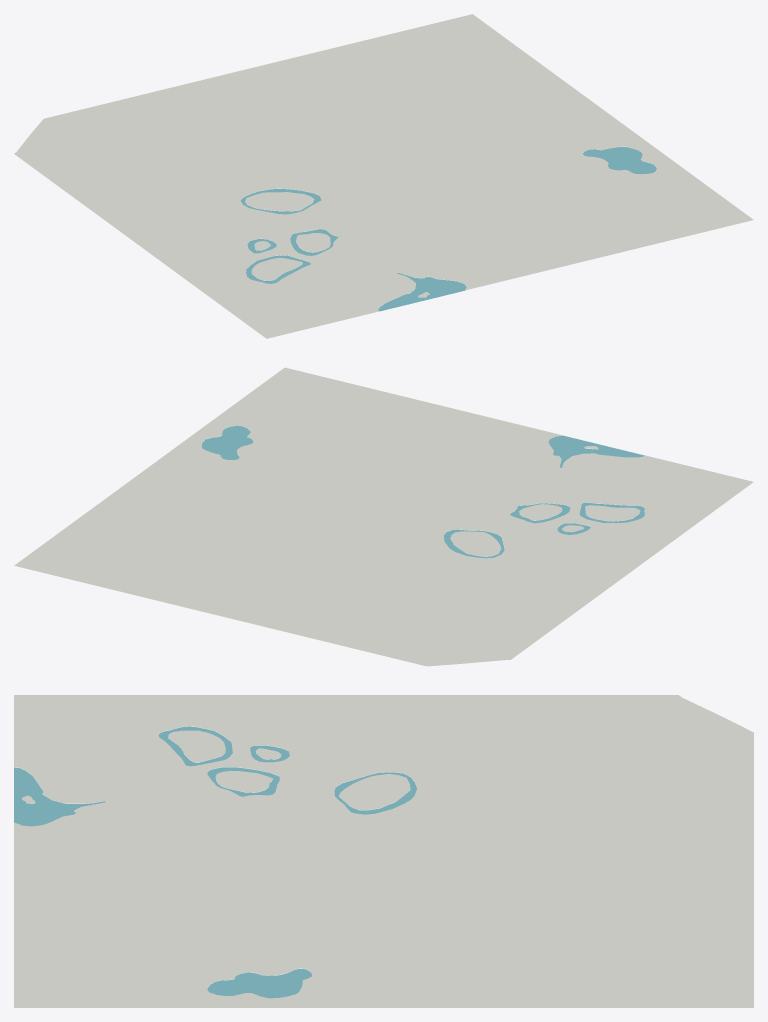
The picture shows the model from 3 angles, top to bottom: view 1: azimuth 30°, elevation 25°; view 2: azimuth 150°, elevation 25°; view 3: azimuth 270°, elevation 25°; orthographic projection. The views are drawn at different scales.
Visible parts, largest first — view 1: city; view 2: city; view 3: city.
Part boxes in pixels (x1,y1,x2,y2): city: [14, 14, 753, 338]; city: [14, 367, 753, 666]; city: [14, 695, 753, 1007].
Size of the model in its own units: 500 by 0.18 by 500.
